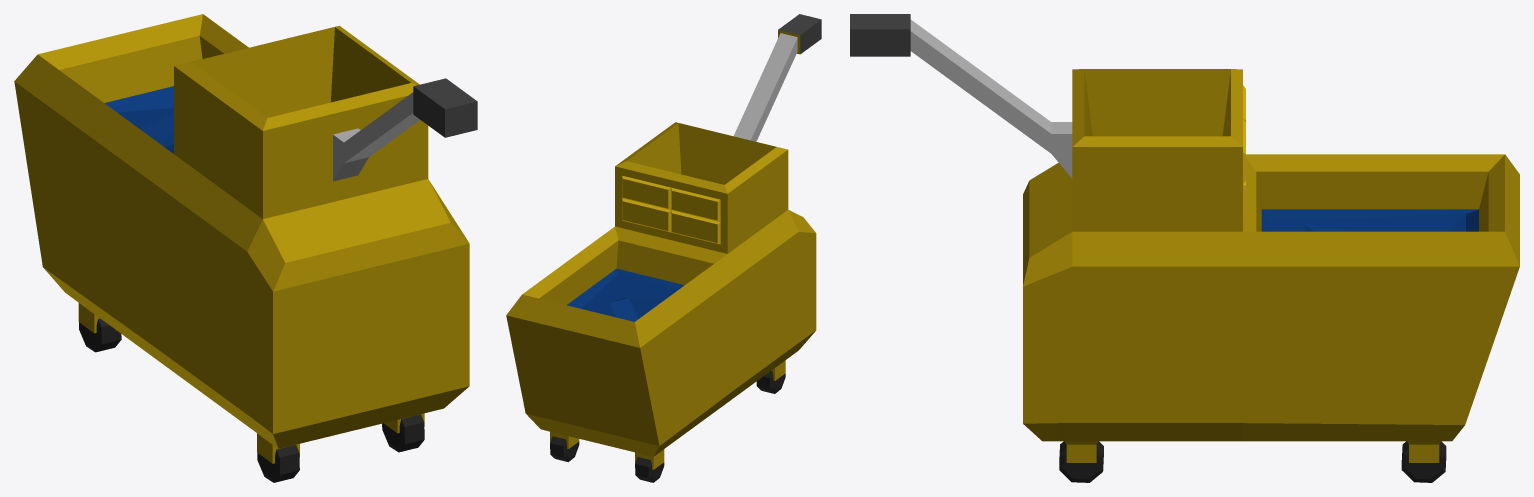
The model's file is MopBucketV1.fbx.
3 views of the same model, side by side, from view 1: azimuth 30°, elevation 25°; view 2: azimuth 150°, elevation 25°; view 3: azimuth 270°, elevation 25° (orthographic). The views are drawn at different scales.
Visible parts, largest first — view 1: MopBucketV1; view 2: MopBucketV1; view 3: MopBucketV1.
Part boxes in pixels (x1,y1,x2,y2): MopBucketV1: (14,14,477,482); MopBucketV1: (506,14,821,482); MopBucketV1: (850,14,1519,482).
Bounding box in the file's own units: 27.96 × 60.47 × 85.88.
